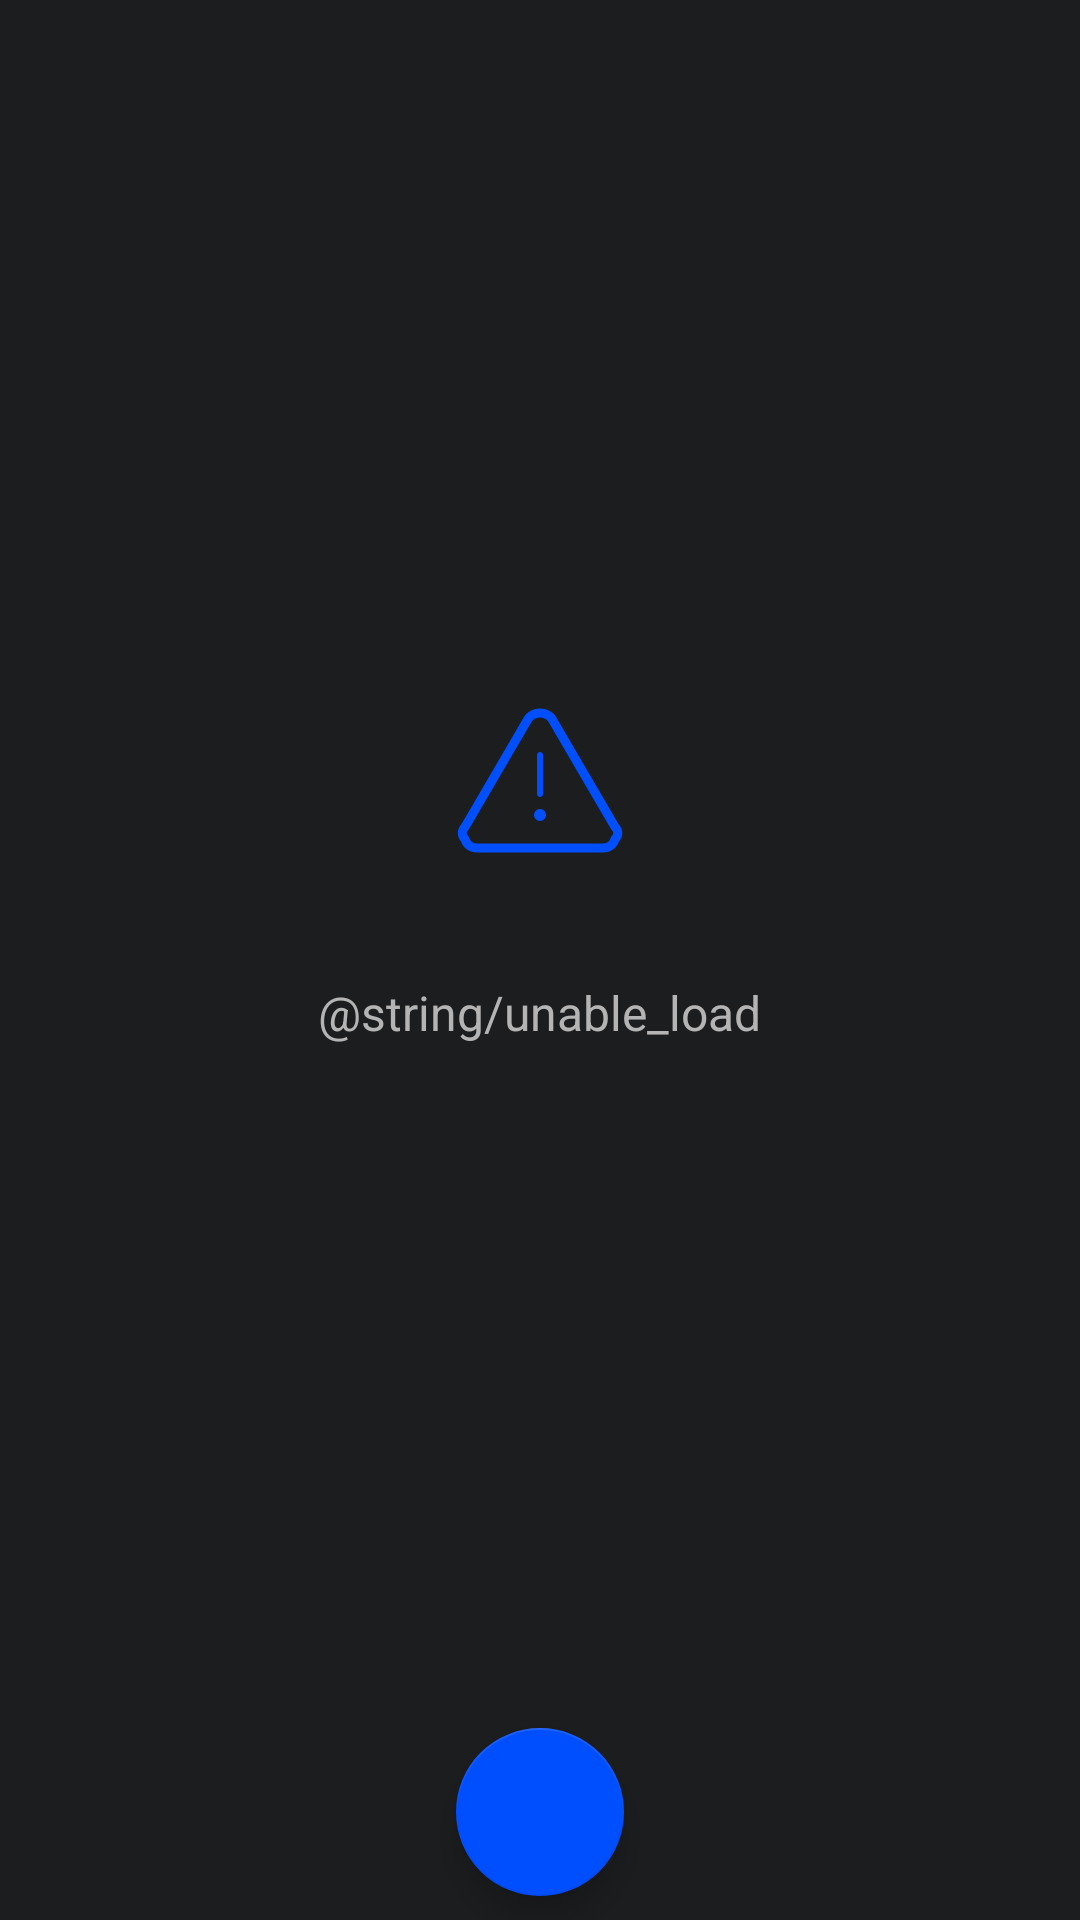

Locate icon controls on the screen. Image size 1080px×1920px, boxes as (x1=x1, y1=y1, x2=x2, y2=y2).
alert triangle: (x1=457, y1=708, x2=623, y2=853)
